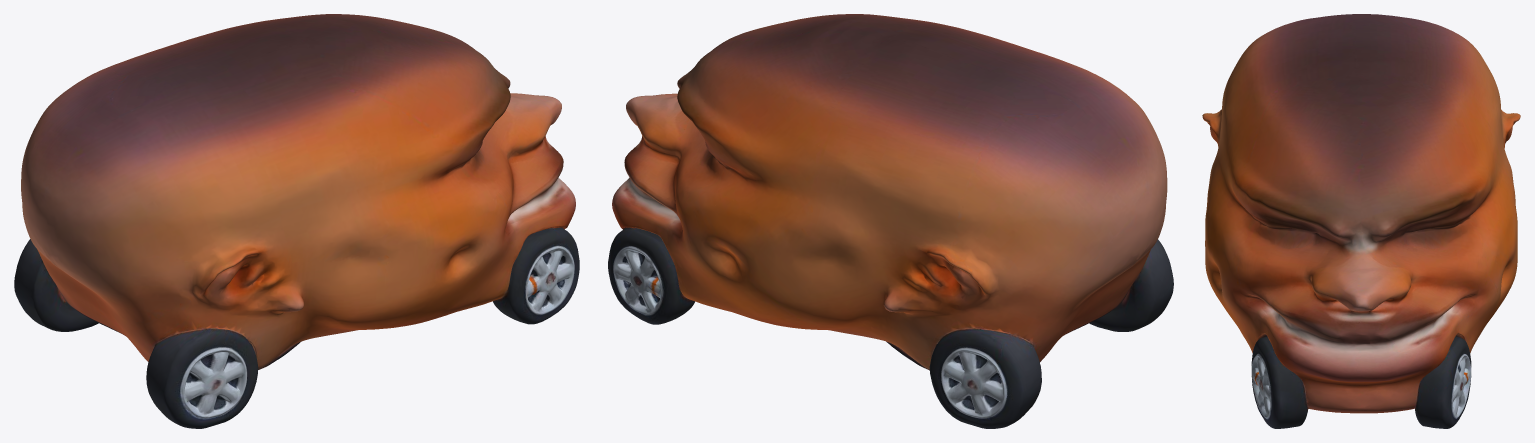
The model's file is karota.glb.
The picture shows the model from 3 angles, left to right: view 1: azimuth 30°, elevation 25°; view 2: azimuth 150°, elevation 25°; view 3: azimuth 270°, elevation 25°; orthographic projection. The views are drawn at different scales.
Parts seen in each view (by area): view 1: tripo_node_f7dd22cd; view 2: tripo_node_f7dd22cd; view 3: tripo_node_f7dd22cd.
Boxes of the visible parts, bbox=[...] form: tripo_node_f7dd22cd: bbox=[14, 14, 579, 428]; tripo_node_f7dd22cd: bbox=[608, 14, 1173, 428]; tripo_node_f7dd22cd: bbox=[1202, 14, 1520, 428].
Bounding box in the file's own units: 1 × 0.534 × 0.5786.
Materials: 1 (1 with a texture image).
